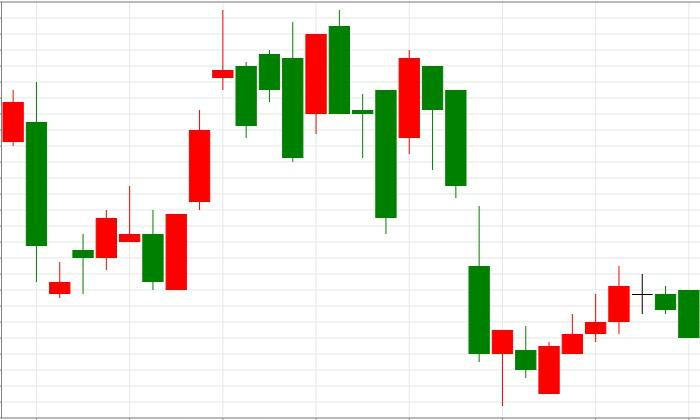hammer_rise: (423, 66, 513, 406)
